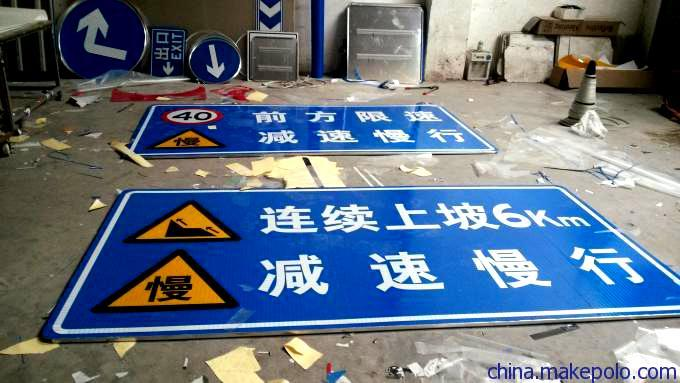sign: (73, 184, 655, 337), (125, 101, 487, 156)
